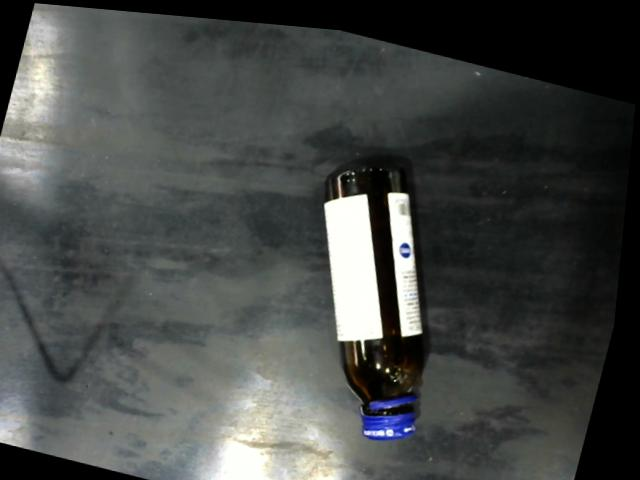glass: (327, 153, 435, 438)
